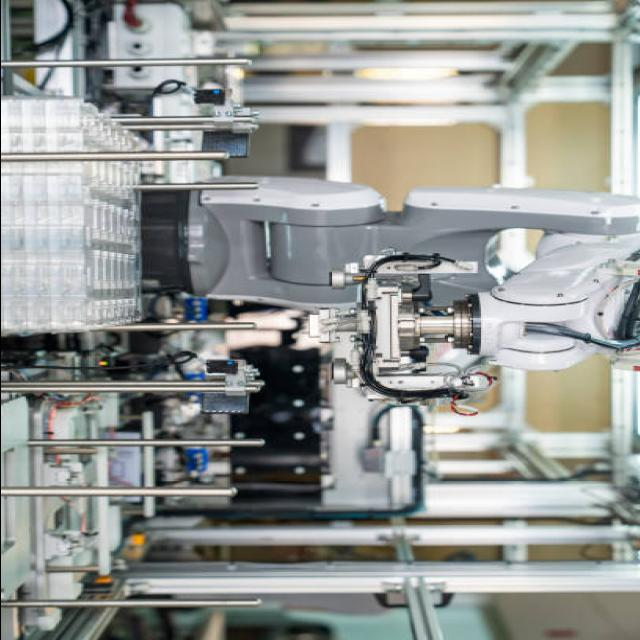Robotic-arm: (151, 165, 640, 408)
